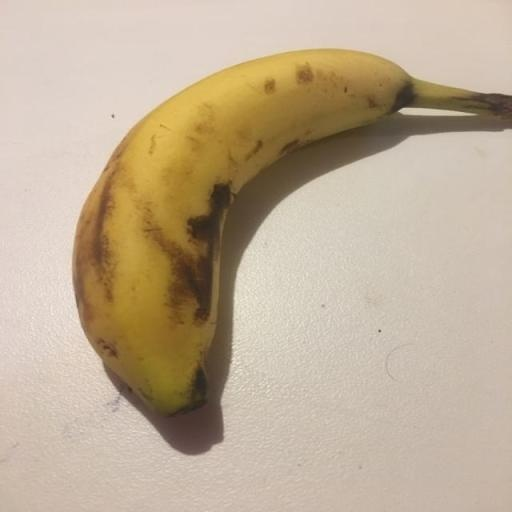fruit: (73, 50, 511, 415)
